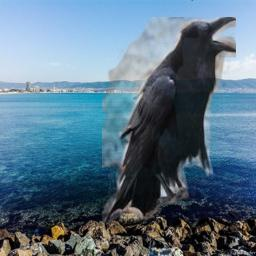Crow: (102, 17, 236, 226)
